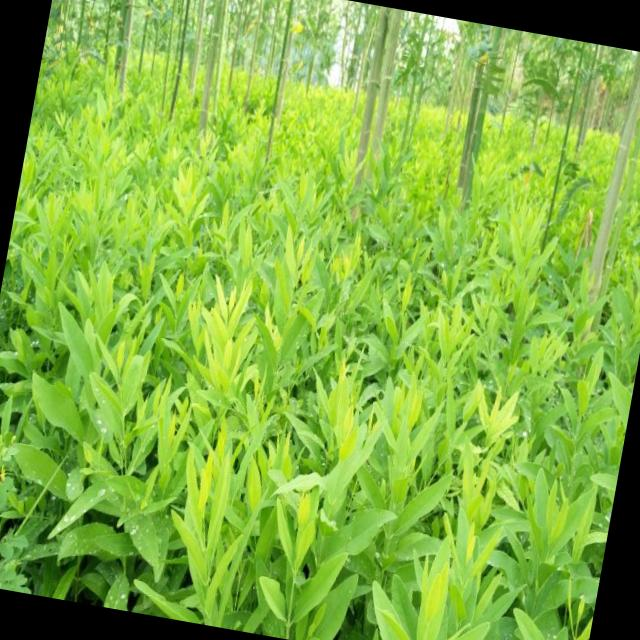Medicinal-Sandalwood: (0, 99, 640, 640)
